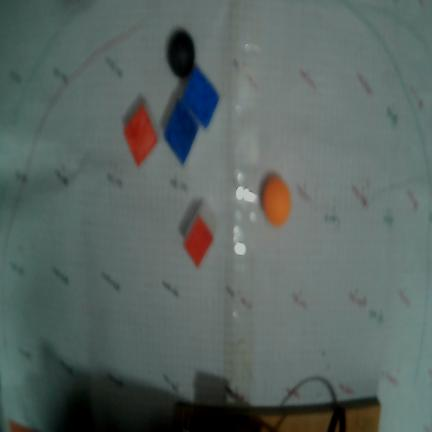circle_blue: (168, 29, 195, 77)
circle_orange: (262, 176, 291, 226)
rectangle_blue: (183, 66, 219, 127)
rectangle_orange: (184, 215, 213, 266)
square_blue: (164, 101, 199, 164)
square_orange: (124, 103, 157, 166)
